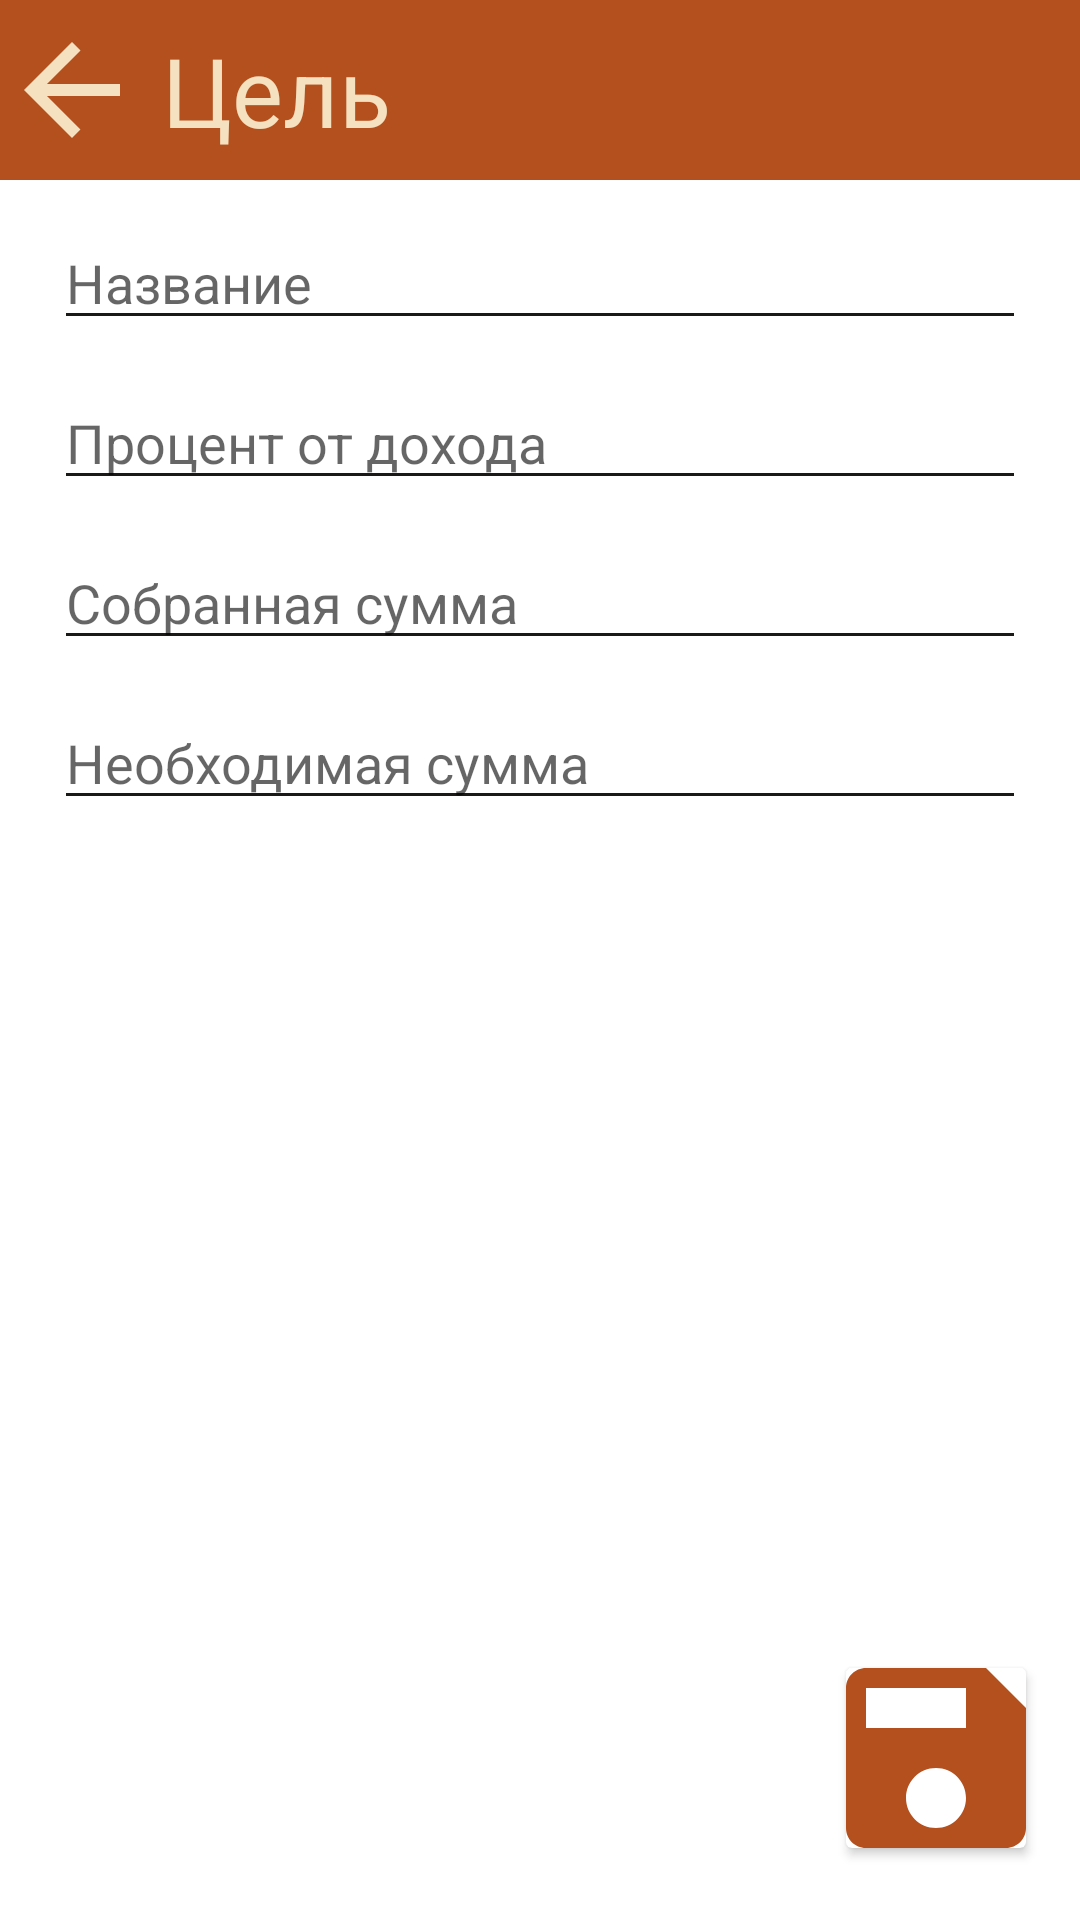

Where icons sit on this 1080*1920 app screen, as bbox=(x1, y1, x2, y2):
back: bbox=(24, 42, 120, 138)
save: bbox=(846, 1668, 1026, 1848)
